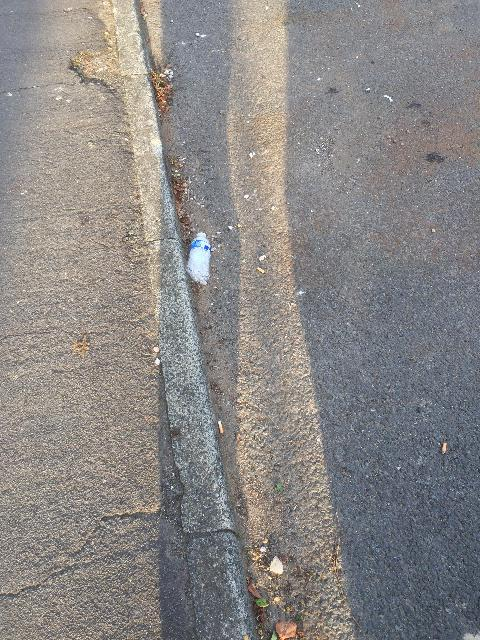plastic: (186, 232, 210, 285)
